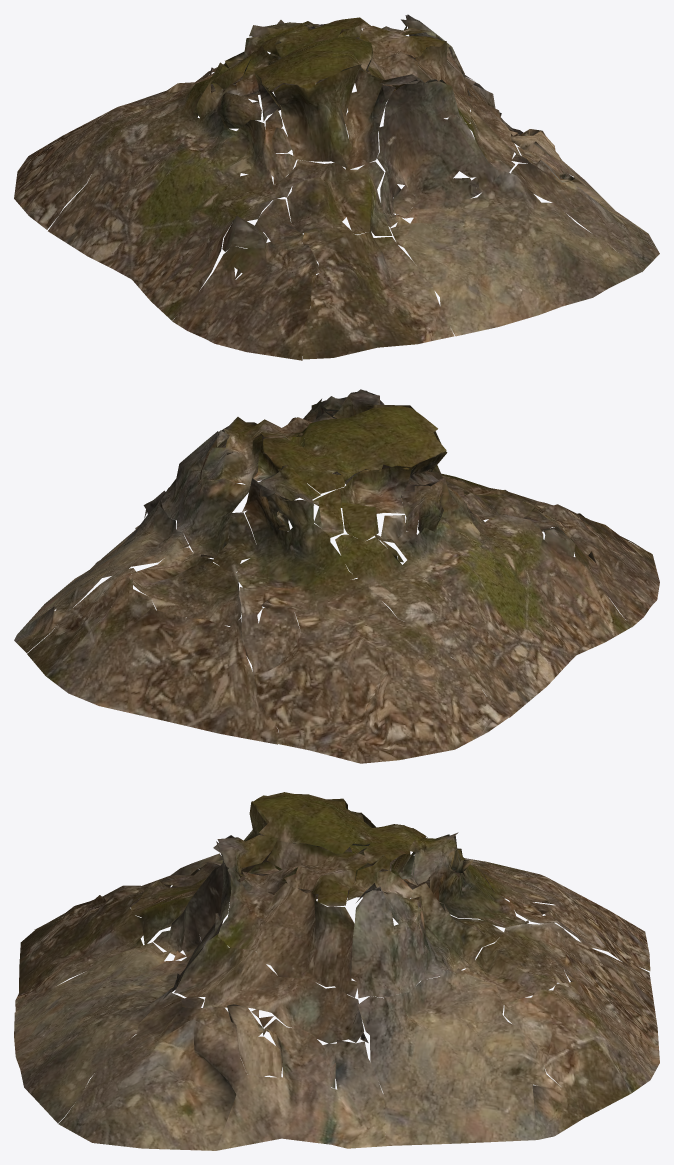
The model's file is tree_stump_01.glb.
3 renders of one model, top to bottom at view 1: azimuth 30°, elevation 25°; view 2: azimuth 150°, elevation 25°; view 3: azimuth 270°, elevation 25°, orthographic. The views are drawn at different scales.
Parts seen in each view (by area): view 1: tree_stump_01; view 2: tree_stump_01; view 3: tree_stump_01.
Boxes of the visible parts, left/top/right/bottom form: tree_stump_01: left=14, top=14, right=659, bottom=360; tree_stump_01: left=14, top=389, right=659, bottom=763; tree_stump_01: left=14, top=792, right=659, bottom=1150.
Size of the model in its own units: 1.42 by 0.5736 by 1.59.
1 material, 1 textured.
